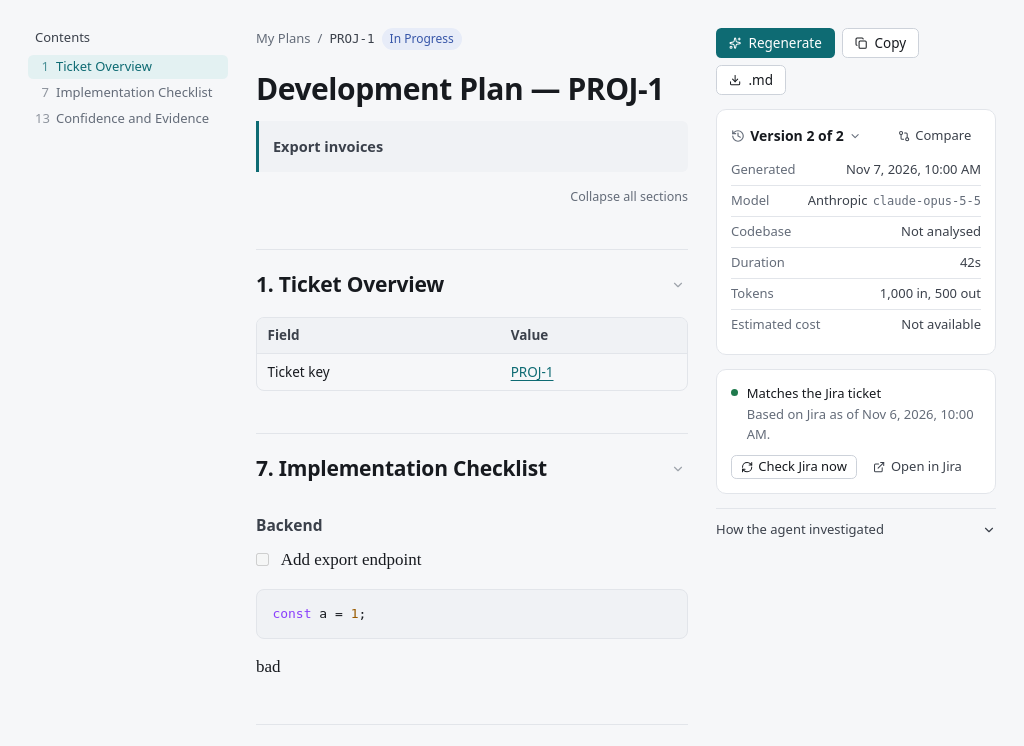
it: plan viewer › collapses sections
The width and height of the screenshot is (1024, 746).
Click the button named "Collapse 7. Implementation Checklist" next to "7. Implementation Checklist" at (678, 469), box [667,459,688,480]
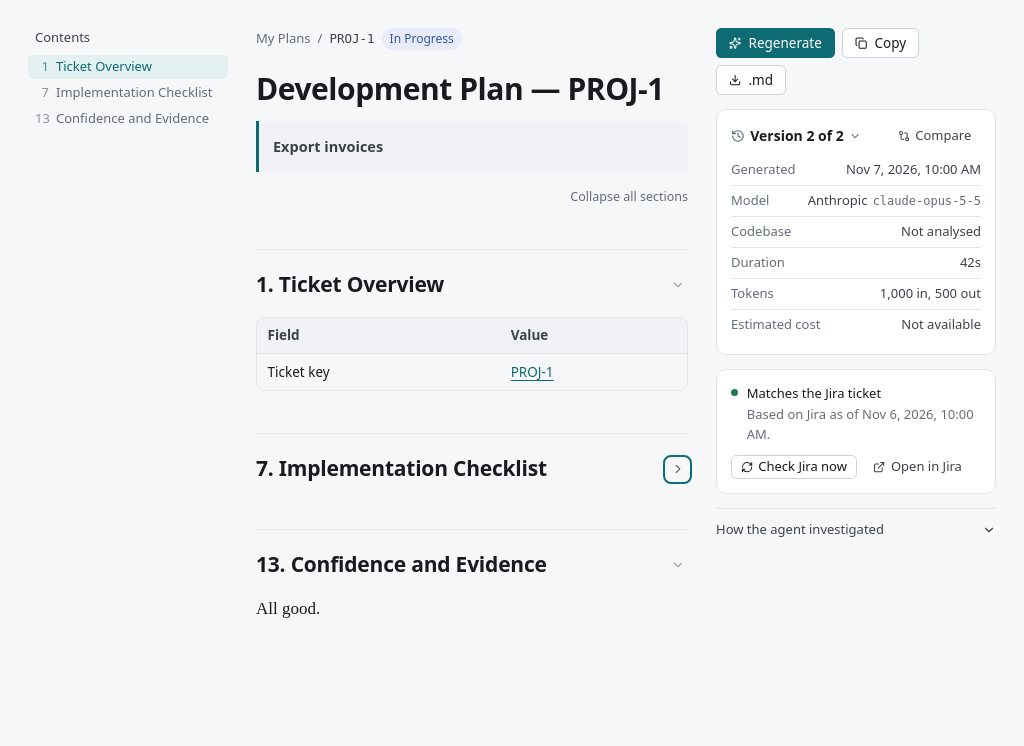
Check: the button named "Expand 7. Implementation Checklist" next to "7. Implementation Checklist" is collapsed, box [667,459,688,480]
Check: the list item "Add export endpoint" is gone
